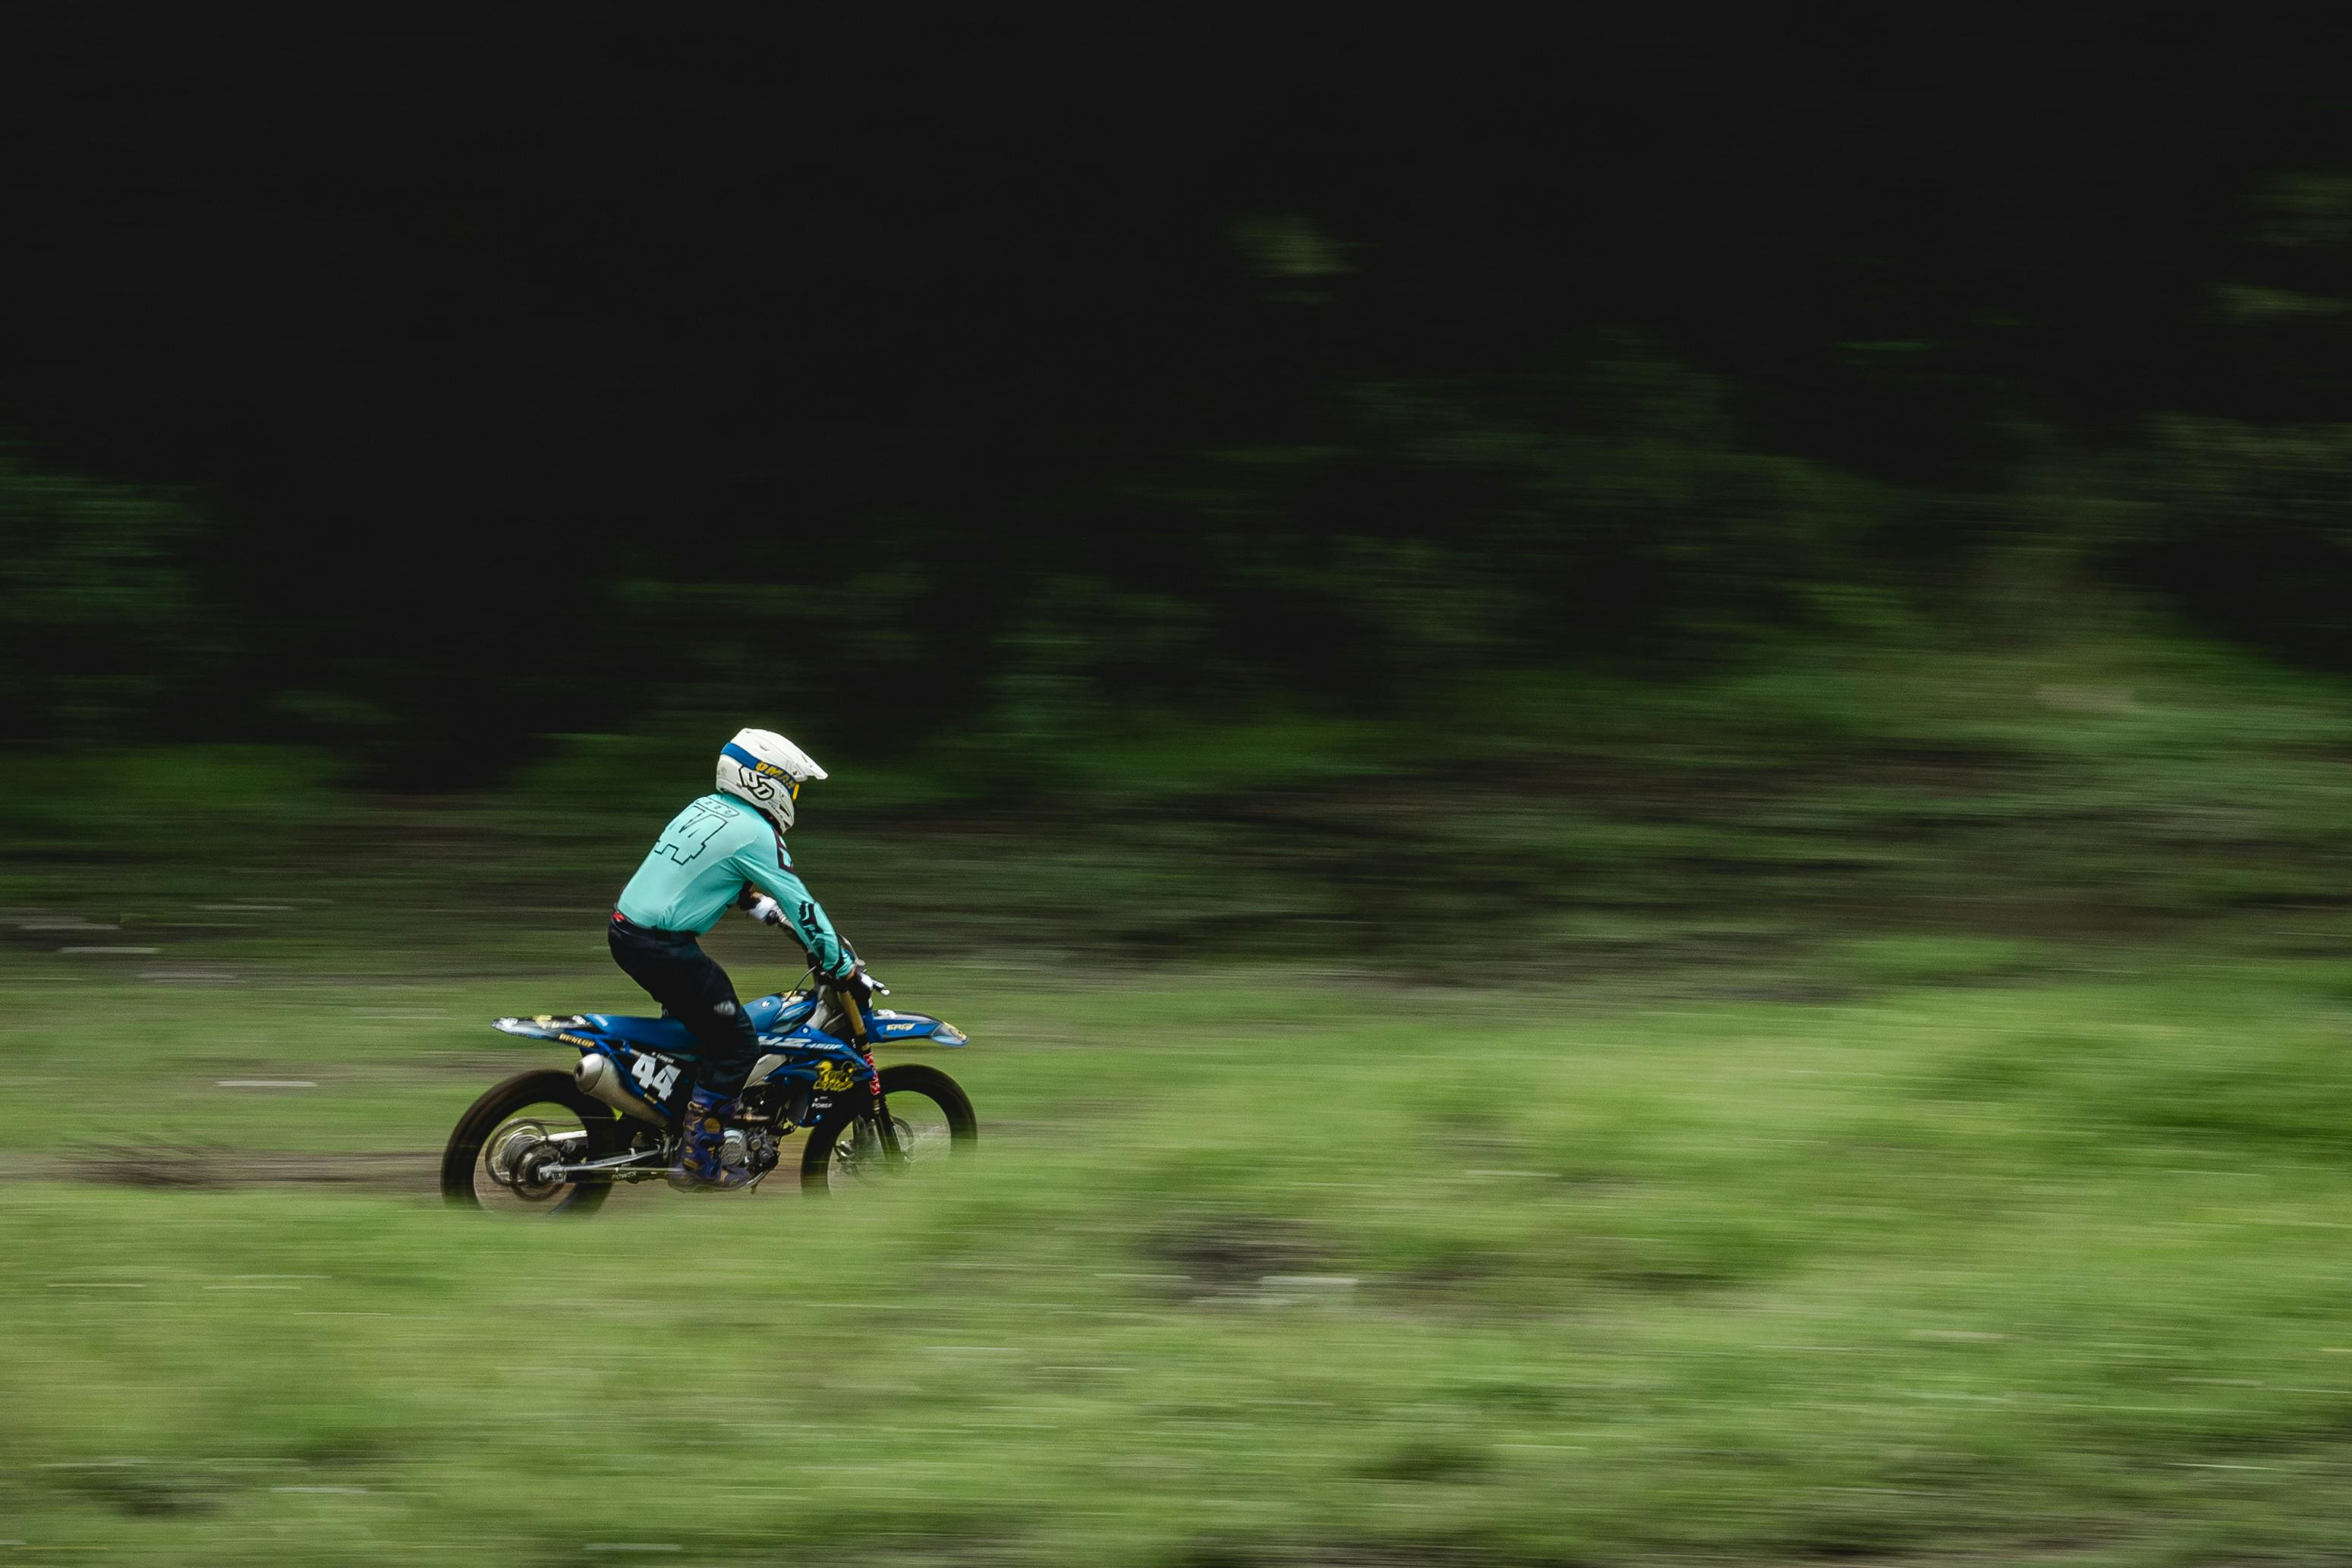capacete: (707, 721, 826, 837)
